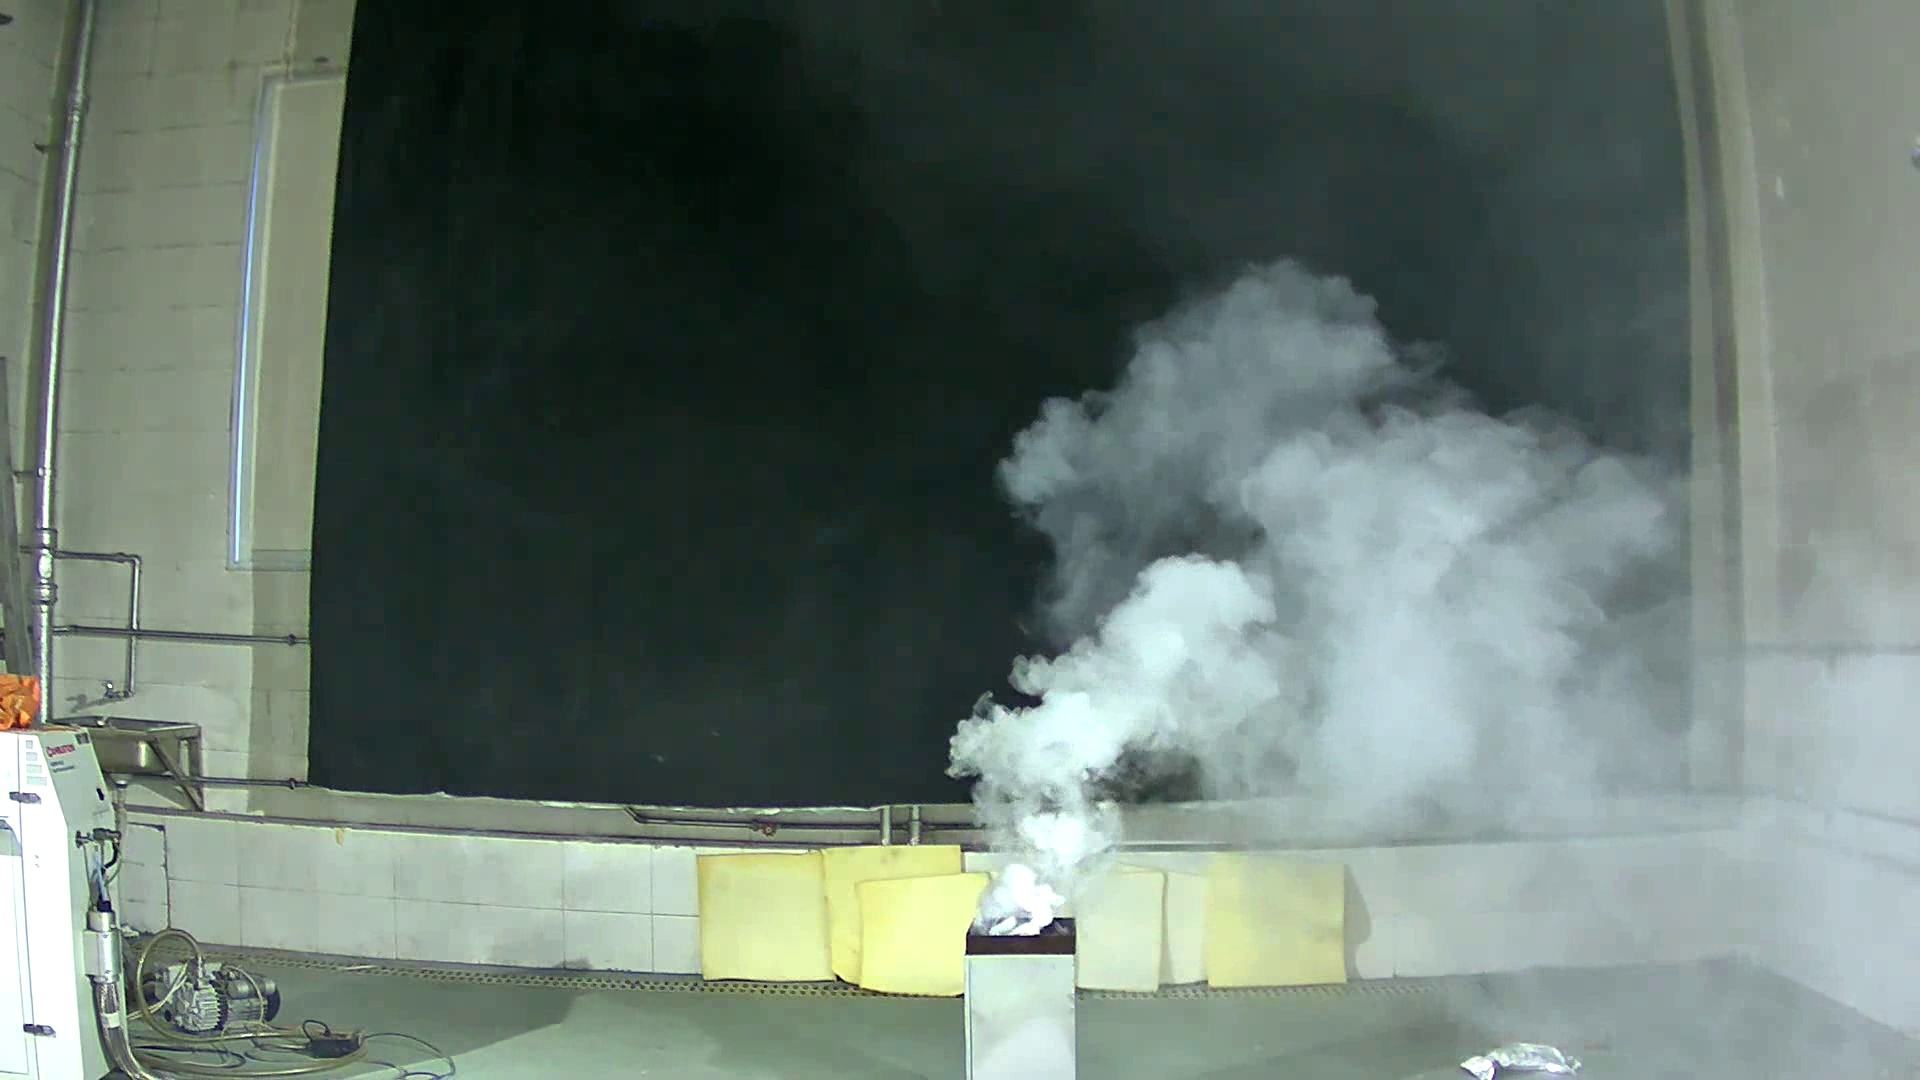smoke: (923, 224, 1712, 936)
